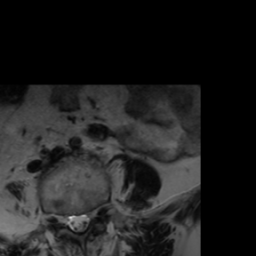CCS_normal: (75, 207, 83, 238)
LFS_normal: (91, 199, 99, 226)
LLS_normal: (83, 205, 91, 233)
RFS_normal: (57, 205, 67, 232)
RLS_normal: (67, 207, 75, 236)
